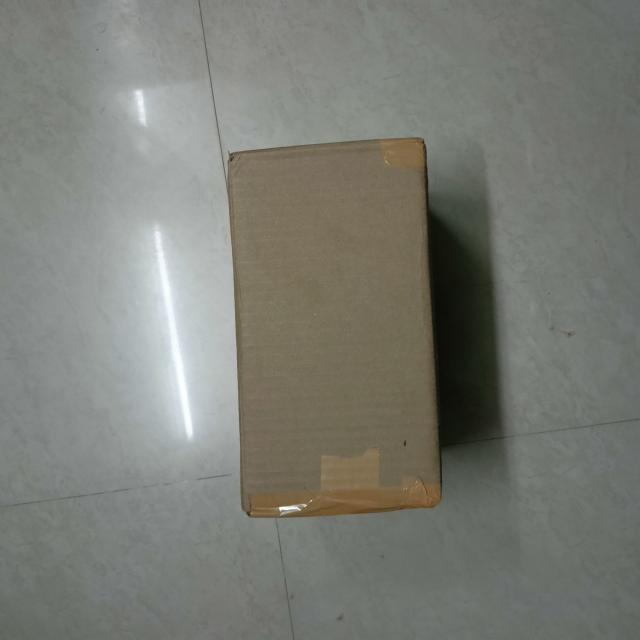box: (230, 137, 436, 520)
